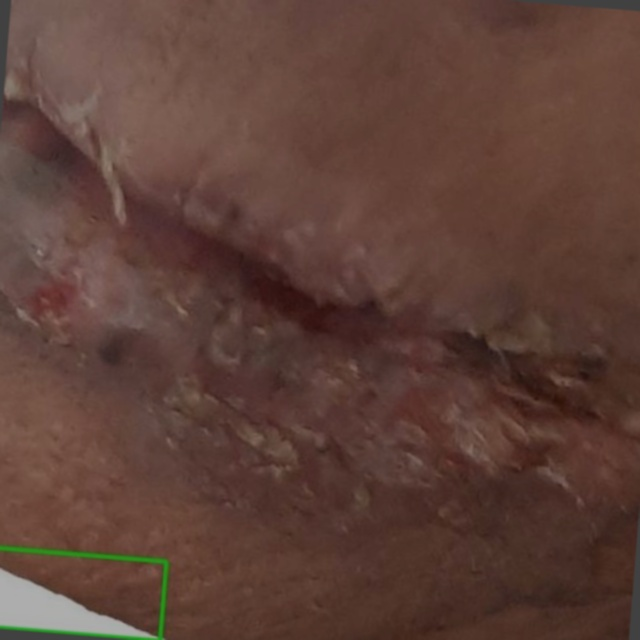Contact Dermatitis: (0, 548, 167, 639)
